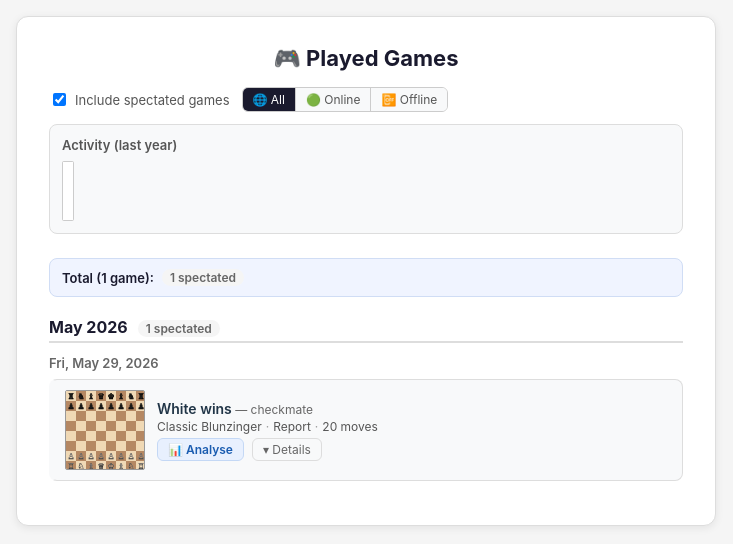
Test: PlayedGamesSection › spectated games filter › shows empty message when all games are spectated and filter is unchecked
The image size is (733, 544).
# Uncheck the filter
Click the checkbox labelled "Include spectated games": (60, 100) [53,93,66,106]
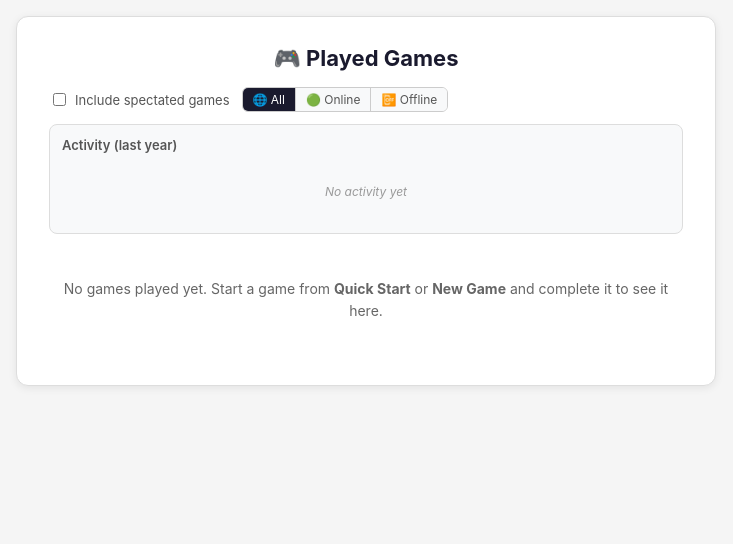
Check: the text "No games played yet" is shown, box [64,280,334,297]
